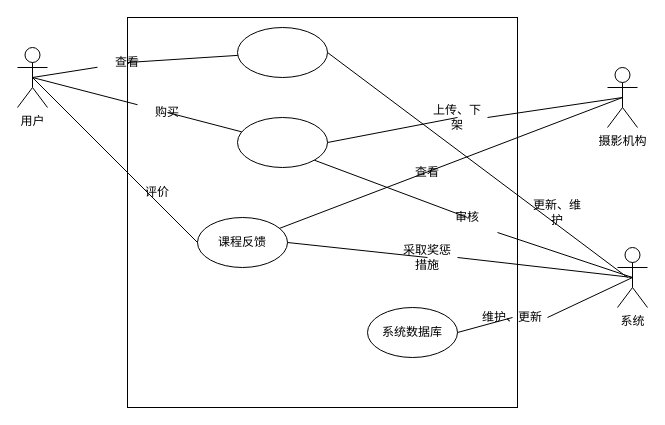
The diagram is 665 pixels wide and 425 high, and some of its shapes have lost their labels. Here are the shapes that lost their labels. From the top down, the centre of each, then its label:
At (x=282, y=52): "摄影课程推荐".
At (x=282, y=142): "摄影课程".
